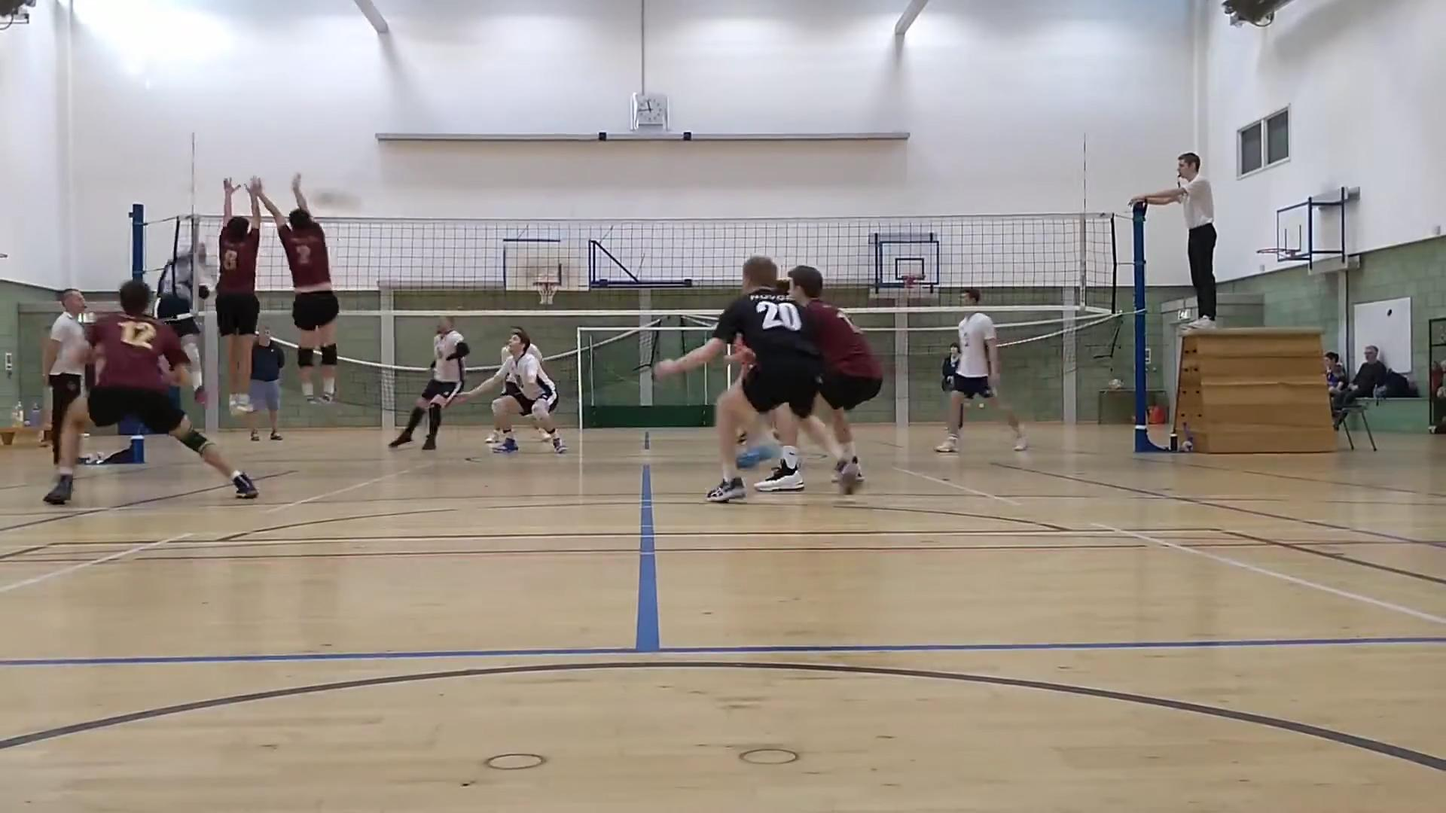attacco: (154, 242, 209, 402)
muro: (258, 174, 354, 419), (218, 181, 267, 378)
